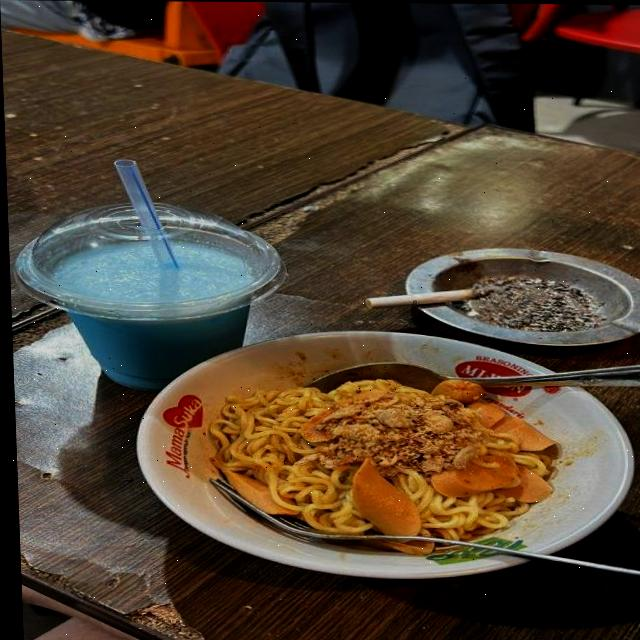cigarette: (361, 288, 490, 309)
